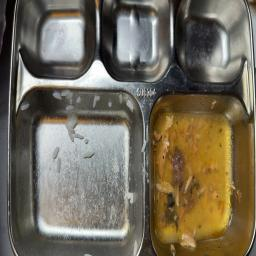empty: (18, 90, 143, 251), (152, 110, 235, 247), (176, 0, 242, 82), (102, 0, 170, 79), (26, 0, 95, 73)
